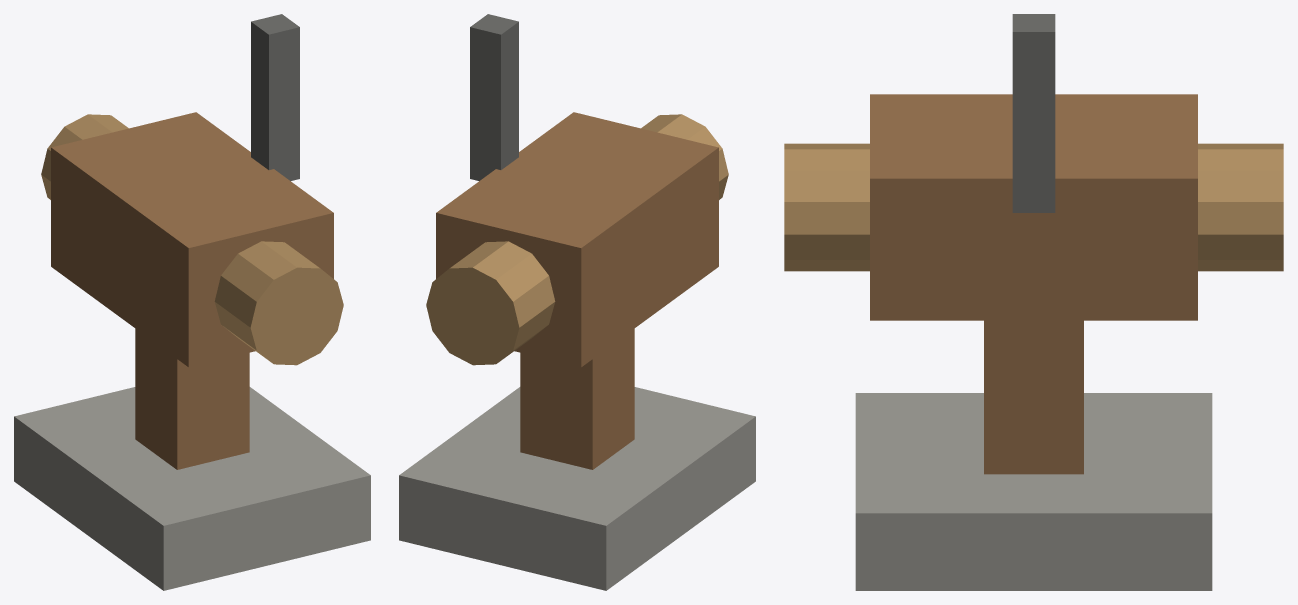
The model's file is vf_clutch.glb.
The picture shows the model from 3 angles, left to right: view 1: azimuth 30°, elevation 25°; view 2: azimuth 150°, elevation 25°; view 3: azimuth 270°, elevation 25°; orthographic projection. The views are drawn at different scales.
Visible parts, largest first — view 1: Static_Oak, Static_Stone, Static_Bronze, Static_Iron; view 2: Static_Oak, Static_Stone, Static_Bronze, Static_Iron; view 3: Static_Oak, Static_Stone, Static_Bronze, Static_Iron.
Part boxes in pixels (x1=…): Static_Oak: x1=51, y1=112, x2=333, y2=469; Static_Stone: x1=14, y1=387, x2=370, y2=590; Static_Bronze: x1=41, y1=114, x2=343, y2=365; Static_Iron: x1=251, y1=14, x2=299, y2=180; Static_Oak: x1=436, y1=112, x2=718, y2=469; Static_Stone: x1=399, y1=387, x2=755, y2=590; Static_Bronze: x1=426, y1=114, x2=728, y2=365; Static_Iron: x1=470, y1=14, x2=518, y2=180; Static_Oak: x1=870, y1=94, x2=1197, y2=474; Static_Stone: x1=855, y1=393, x2=1212, y2=590; Static_Bronze: x1=784, y1=143, x2=1283, y2=271; Static_Iron: x1=1012, y1=14, x2=1055, y2=212.
Bounding box in the file's own units: 0.4 × 0.86 × 0.7.
